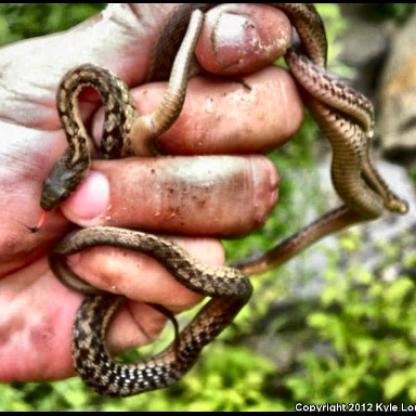Snake: (29, 72, 257, 398)
